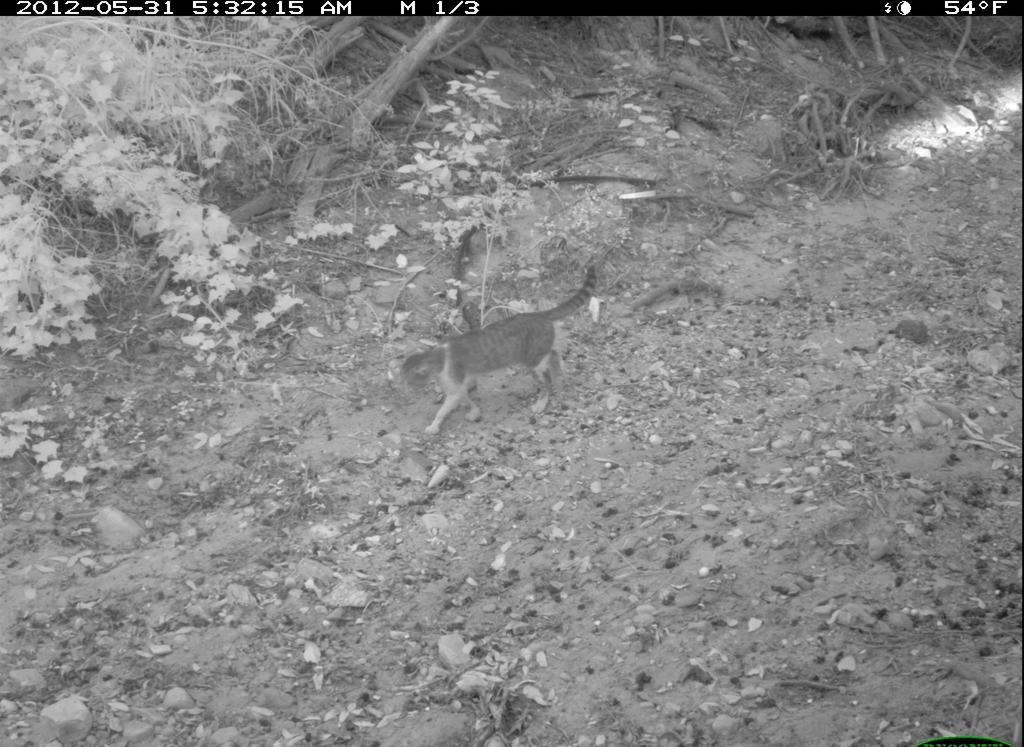cat: (387, 257, 609, 441)
